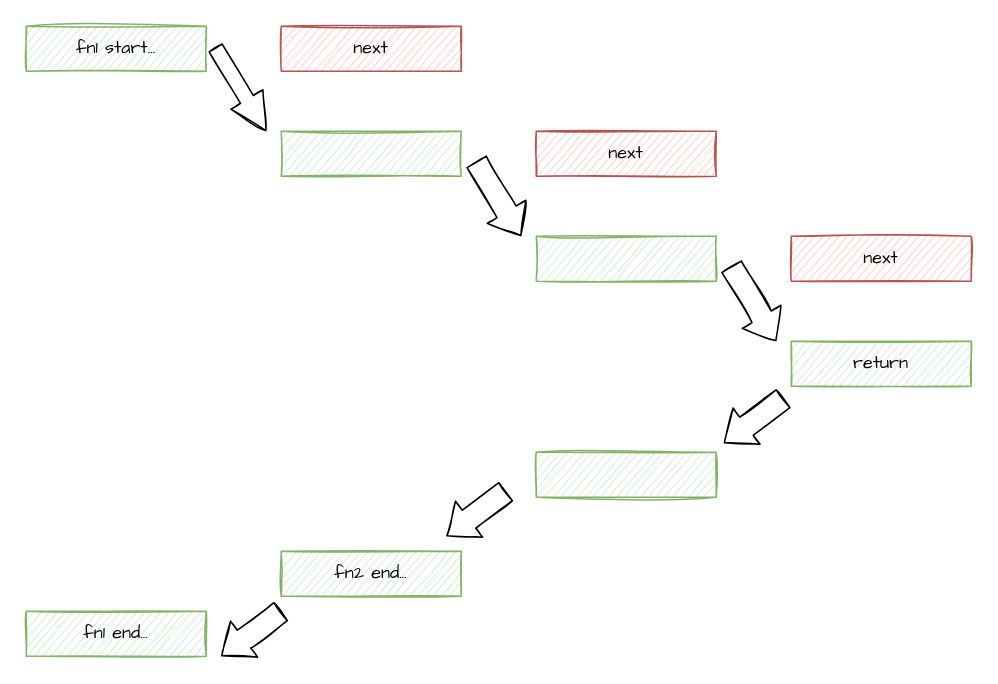
This 998x684 diagram has some shape labels left out. The centre of each missing label's shape, as x and y in pixels:
fn2 start...: (370,153)
fn3 end...: (625,474)
fn3 start...: (625,258)
